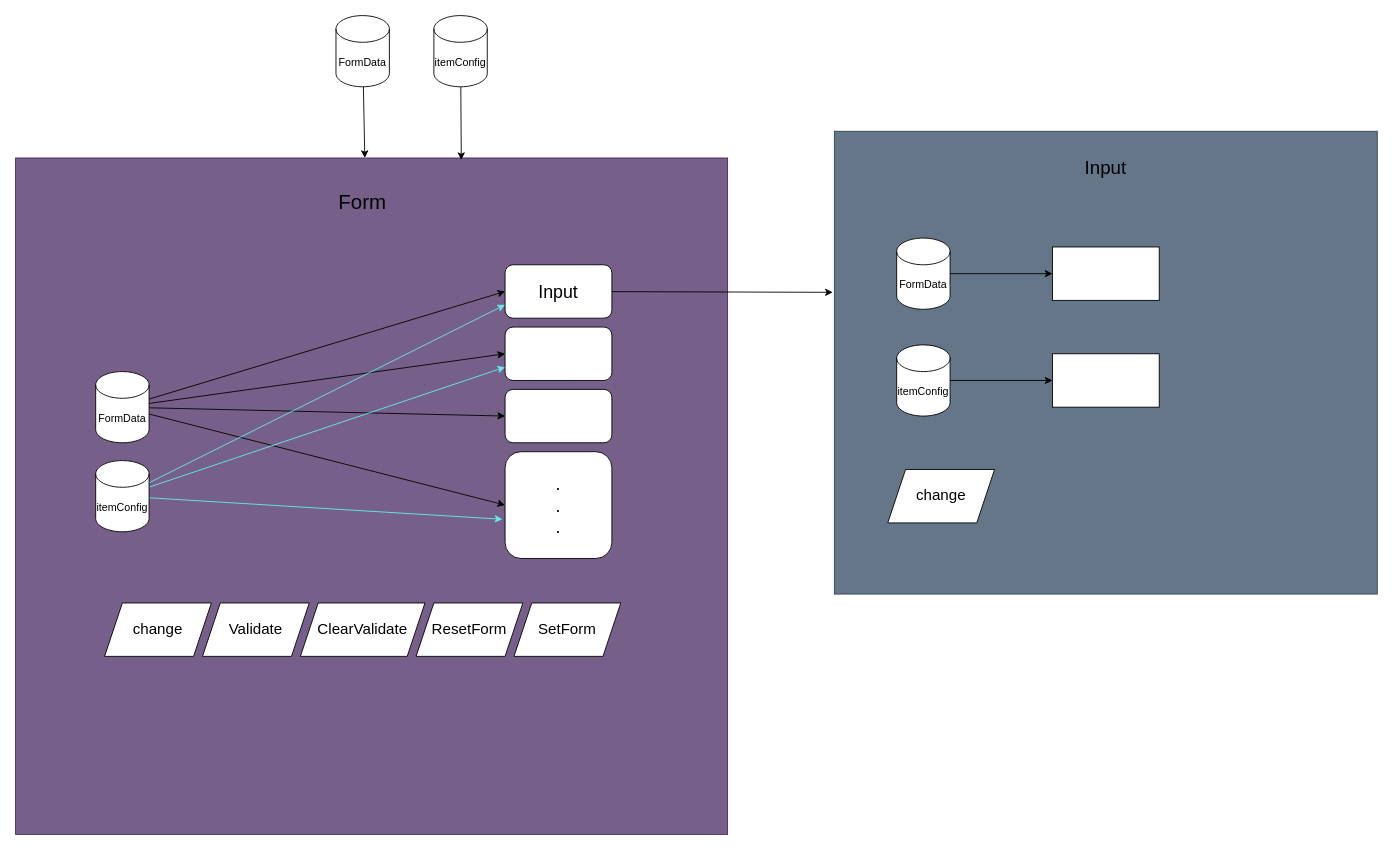
Image size: 1393x850. Some labels were removed from this diagram. The shapes that lost their labels are listed below. From the top down, each one's centre as x and y in pixels, then its label:
At pixel 1105 273: "值的操作".
At pixel 558 353: "select".
At pixel 1105 380: "配置的操作".
At pixel 558 415: "radio".
